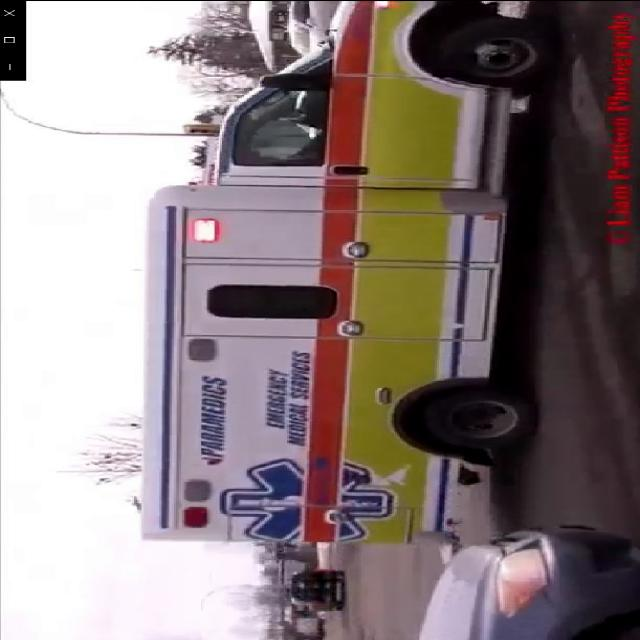emergency: (138, 3, 566, 545)
